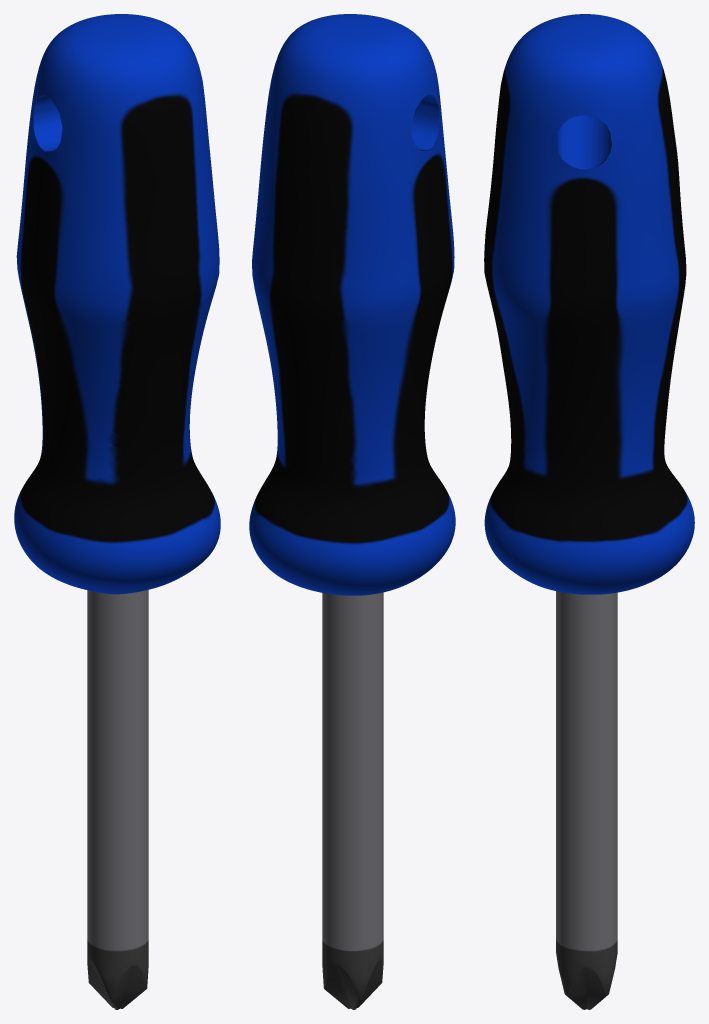
The model's file is Csavarhúzó csillag.fbx.
3 renders of one model, left to right at view 1: azimuth 30°, elevation 25°; view 2: azimuth 150°, elevation 25°; view 3: azimuth 270°, elevation 25°, orthographic.
Visible parts, largest first — view 1: Csavarhuz:csillag; view 2: Csavarhuz:csillag; view 3: Csavarhuz:csillag.
Part boxes in pixels (x1,y1,x2,y2): Csavarhuz:csillag: (14,14,220,1009); Csavarhuz:csillag: (249,14,455,1009); Csavarhuz:csillag: (484,14,694,1009).
Bounding box in the file's own units: 178 × 948 × 185.
Materials: 2 (2 with a texture image).
